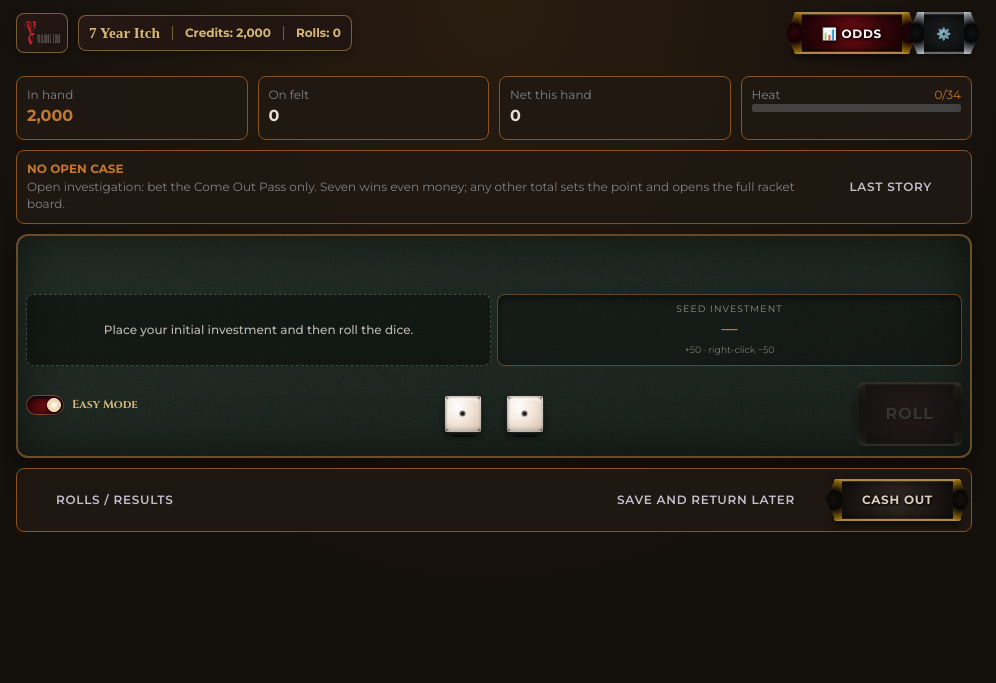
Test: SevenYearItchRoot › hides the toggle switch when points are active and felt is unfurled (Divest is active)
Make pass line bet to allow rolling
Step 1. Click the button with test id "felt-pass" → [730, 330], box [497,294,962,366]
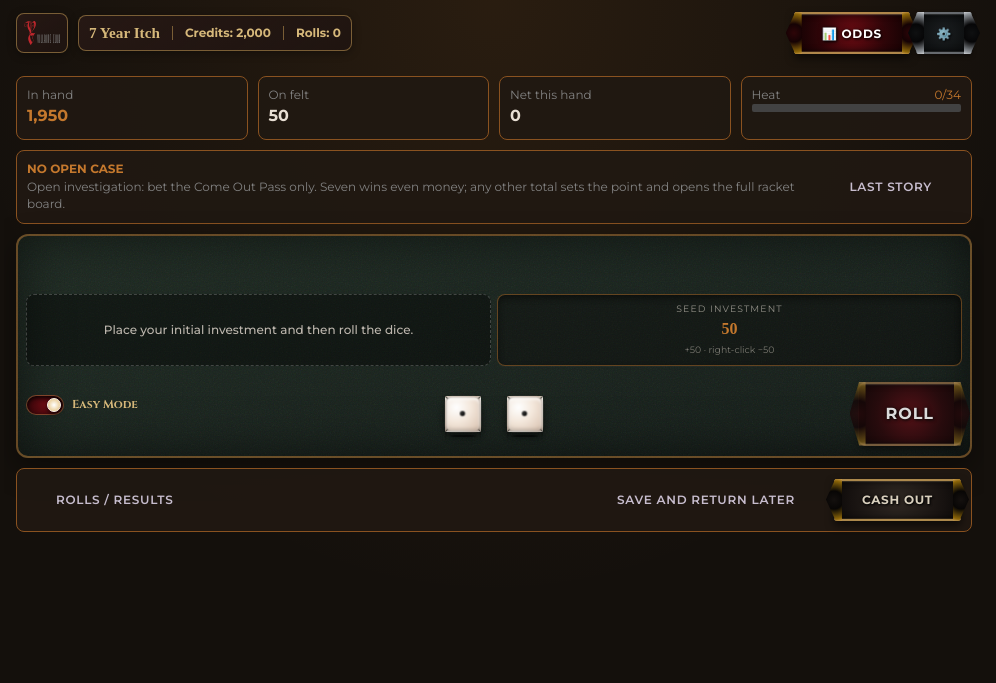
Expected: the text "50" below "On felt" is shown, [268,106,289,125]
Roll to establish point
Step 2. Click the button "Roll" → [910, 414], box [858,382,962,446]
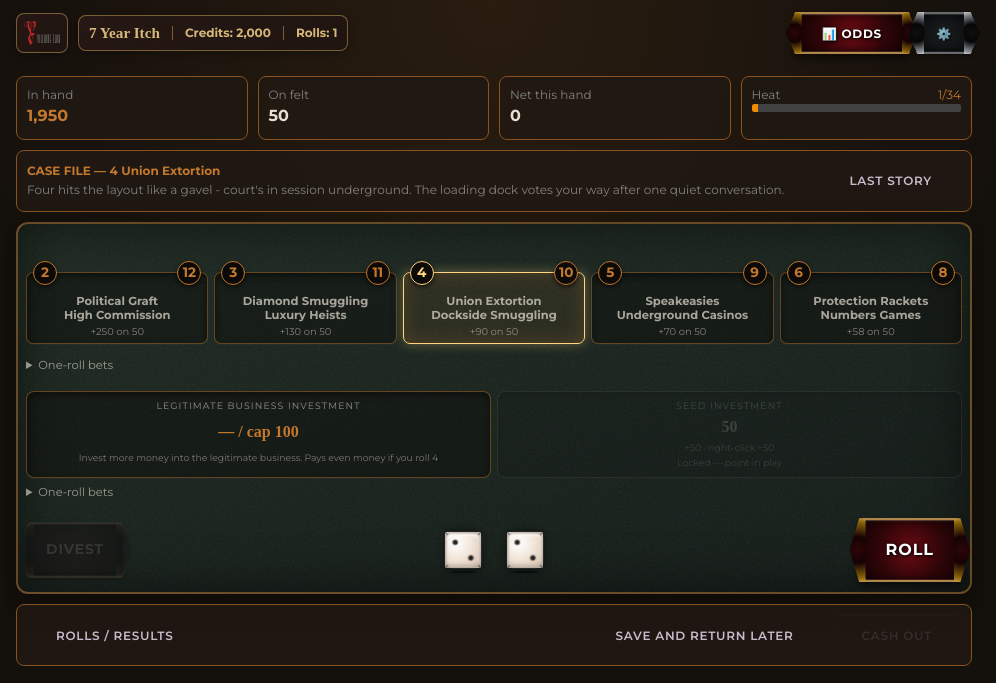
Expected: the button with test id "felt-divest" is shown, [26,522,124,578]
